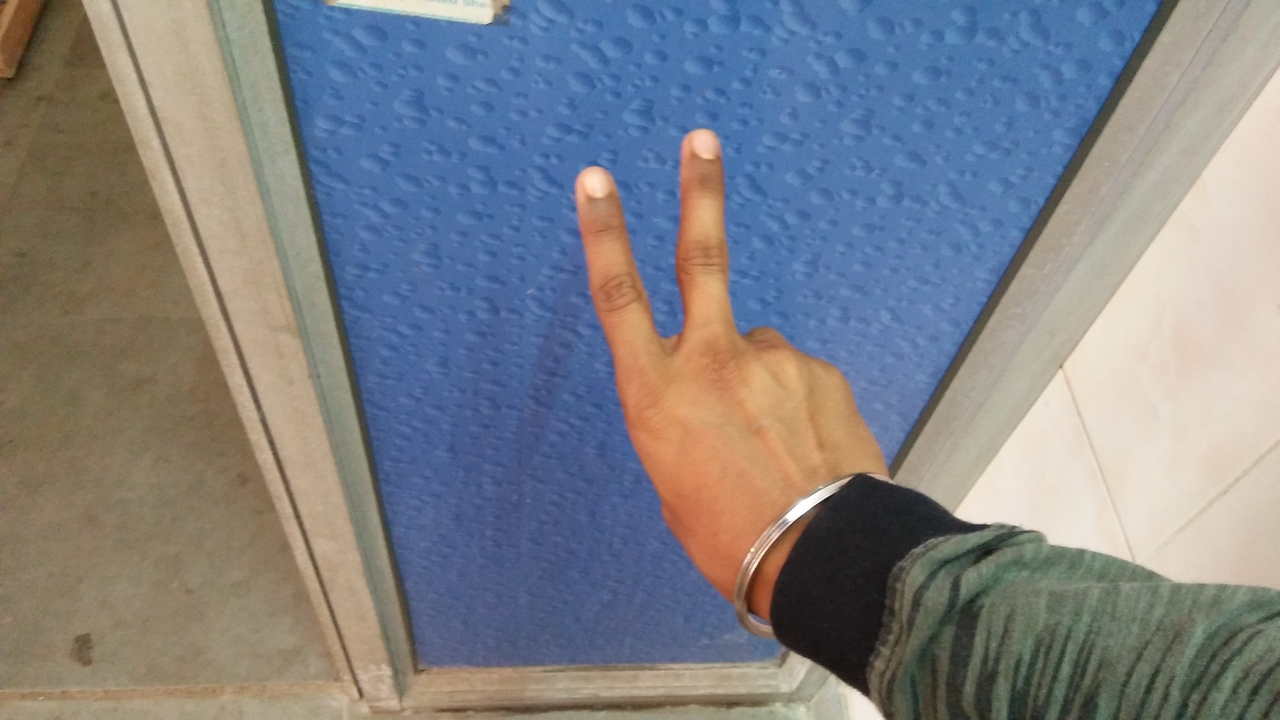fingertip: (566, 156, 630, 212), (670, 122, 730, 172)
